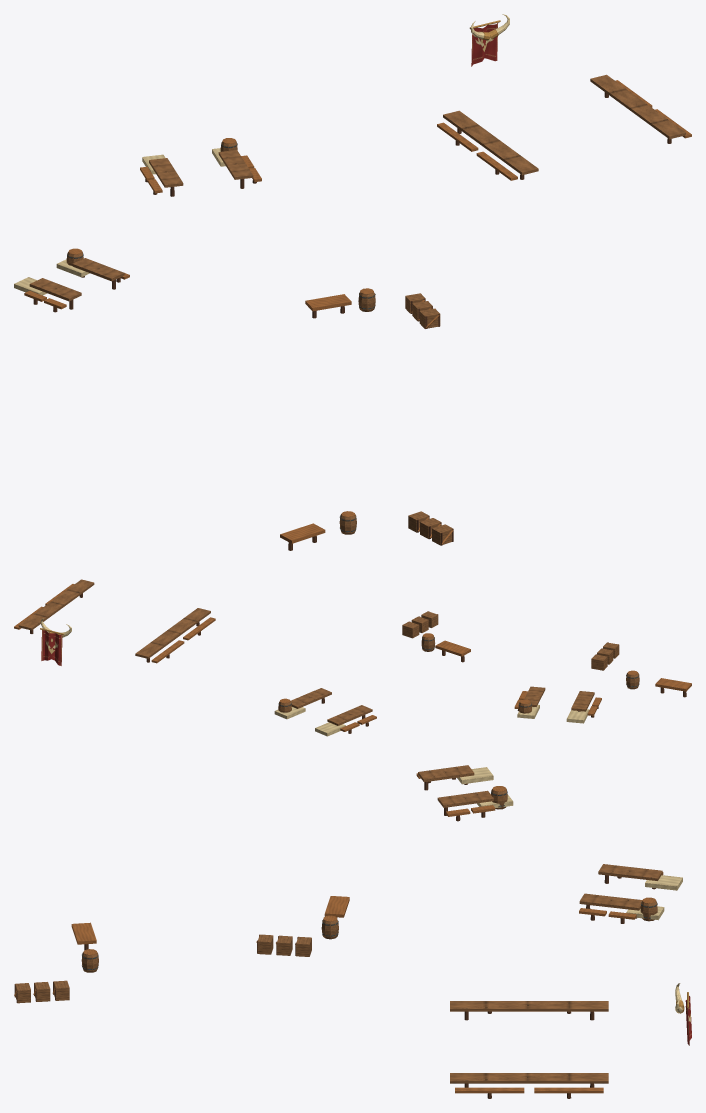
Rendered from phase_1_inside.glb.
3 views of the same model, one above another, from view 1: azimuth 30°, elevation 25°; view 2: azimuth 150°, elevation 25°; view 3: azimuth 270°, elevation 25° (orthographic). The views are drawn at different scales.
Parts seen in each view (by area): view 1: hall_interior_F1, house_b_interior_F1, house_a_interior_F1, forge_interior_F1, store_interior_F1; view 2: hall_interior_F1, house_a_interior_F1, house_b_interior_F1, store_interior_F1, forge_interior_F1; view 3: hall_interior_F1, house_a_interior_F1, house_b_interior_F1, forge_interior_F1, store_interior_F1.
Part boxes in pixels (<box>): hall_interior_F1: <box>437,14,691,180</box>; house_b_interior_F1: <box>14,248,129,312</box>; house_a_interior_F1: <box>140,138,261,196</box>; forge_interior_F1: <box>280,511,453,550</box>; store_interior_F1: <box>305,288,440,328</box>; hall_interior_F1: <box>14,579,215,665</box>; house_a_interior_F1: <box>274,688,376,736</box>; house_b_interior_F1: <box>514,686,601,723</box>; store_interior_F1: <box>402,611,470,662</box>; forge_interior_F1: <box>591,642,691,697</box>; hall_interior_F1: <box>450,983,691,1098</box>; house_a_interior_F1: <box>579,864,682,923</box>; house_b_interior_F1: <box>416,765,513,821</box>; forge_interior_F1: <box>14,922,98,1003</box>; store_interior_F1: <box>256,896,349,956</box>.
Size of the model in its own units: 41.77 by 11.59 by 36.95.
Materials: 1 (1 with a texture image).
